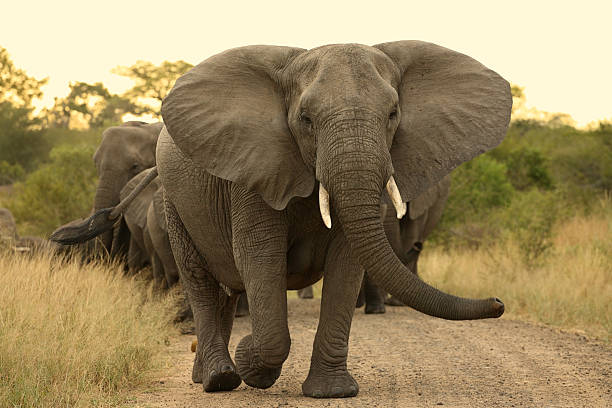africanelephant: (279, 51, 426, 235)
